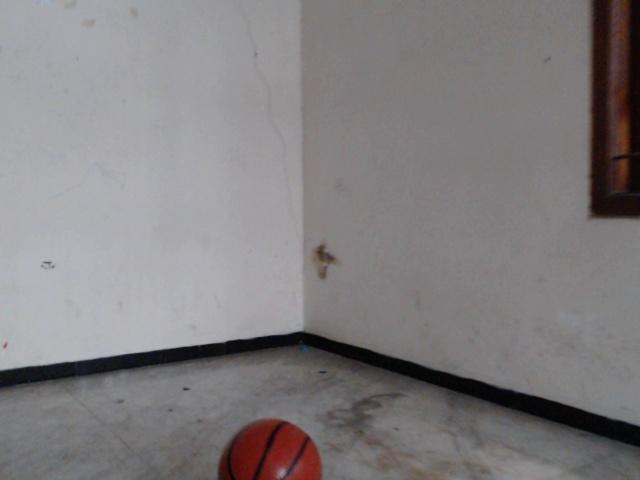Sports-Ball: (217, 427, 321, 480)
